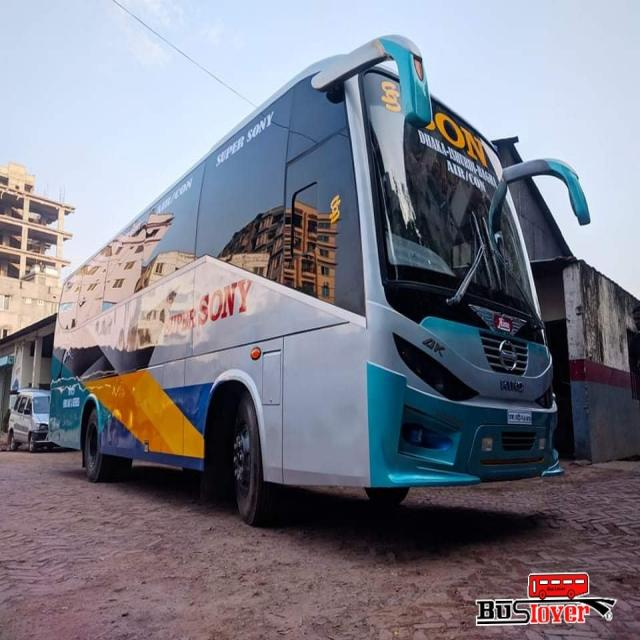bus: (49, 30, 592, 532)
